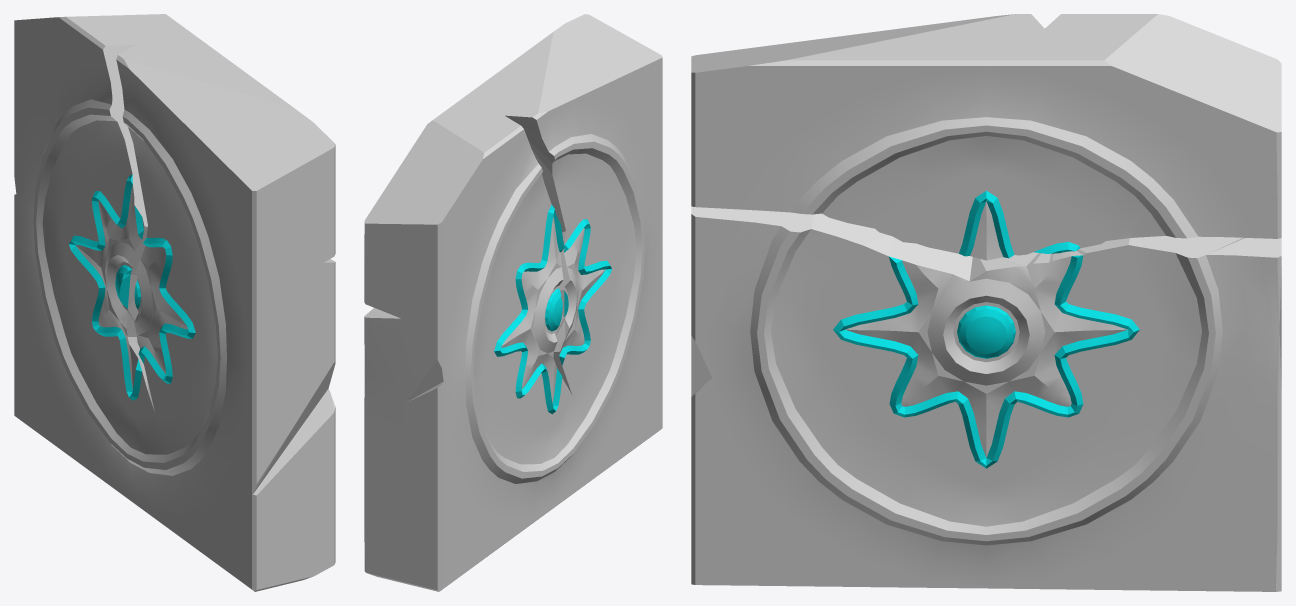
Rendered from Blocks.dae.
3 renders of one model, left to right at view 1: azimuth 30°, elevation 25°; view 2: azimuth 150°, elevation 25°; view 3: azimuth 270°, elevation 25°, orthographic. The views are drawn at different scales.
Visible parts, largest first — view 1: SunBurst.001; view 2: SunBurst.001; view 3: SunBurst.001.
Boxes of the visible parts, x1,y1,x2,y2 form: SunBurst.001: (14,14,335,591); SunBurst.001: (364,14,662,591); SunBurst.001: (691,14,1281,591).
Size of the model in its own units: 0.2577 by 1 by 1.
